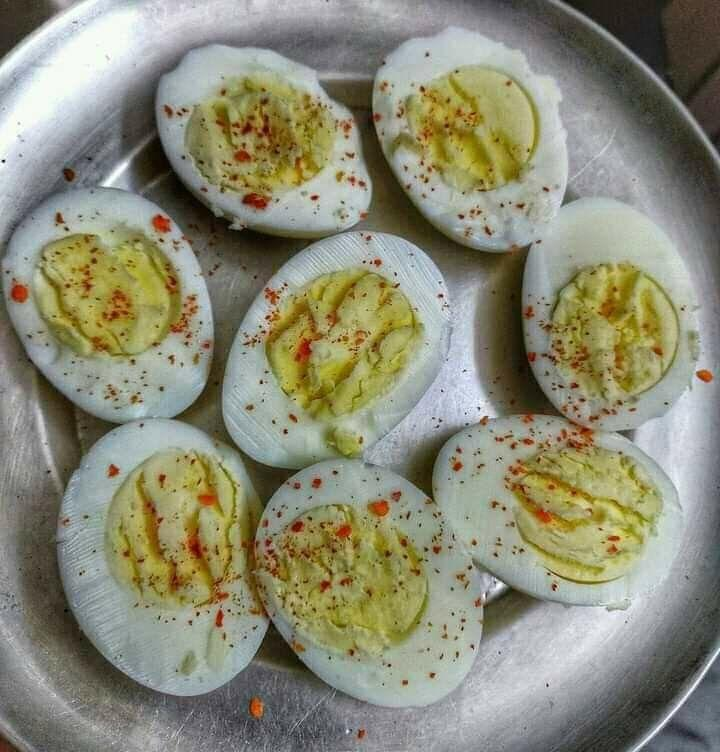eggs: (65, 46, 720, 633)
